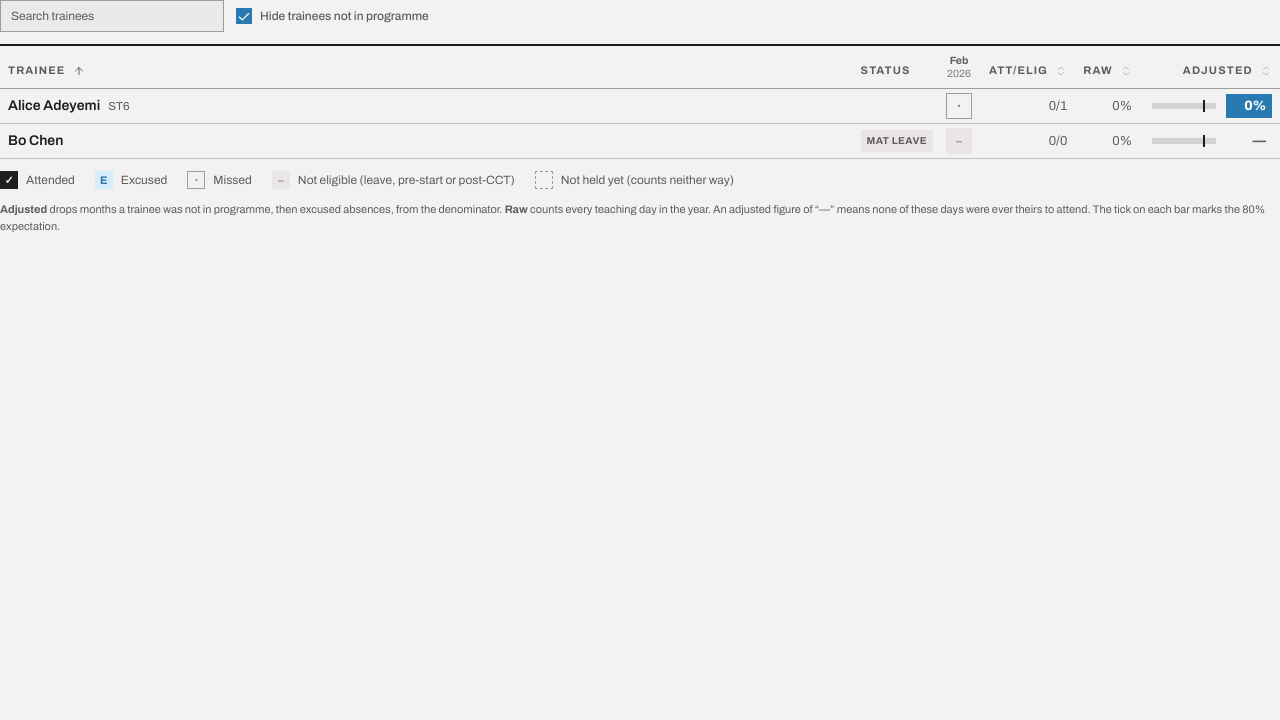
Test: AttendanceGrid cells › offers to mark somebody attended when they are not
This screenshot has width=1280, height=720.
Click the button named "Alice Adeyemi": (959, 106) x1=946 y1=93 x2=972 y2=119
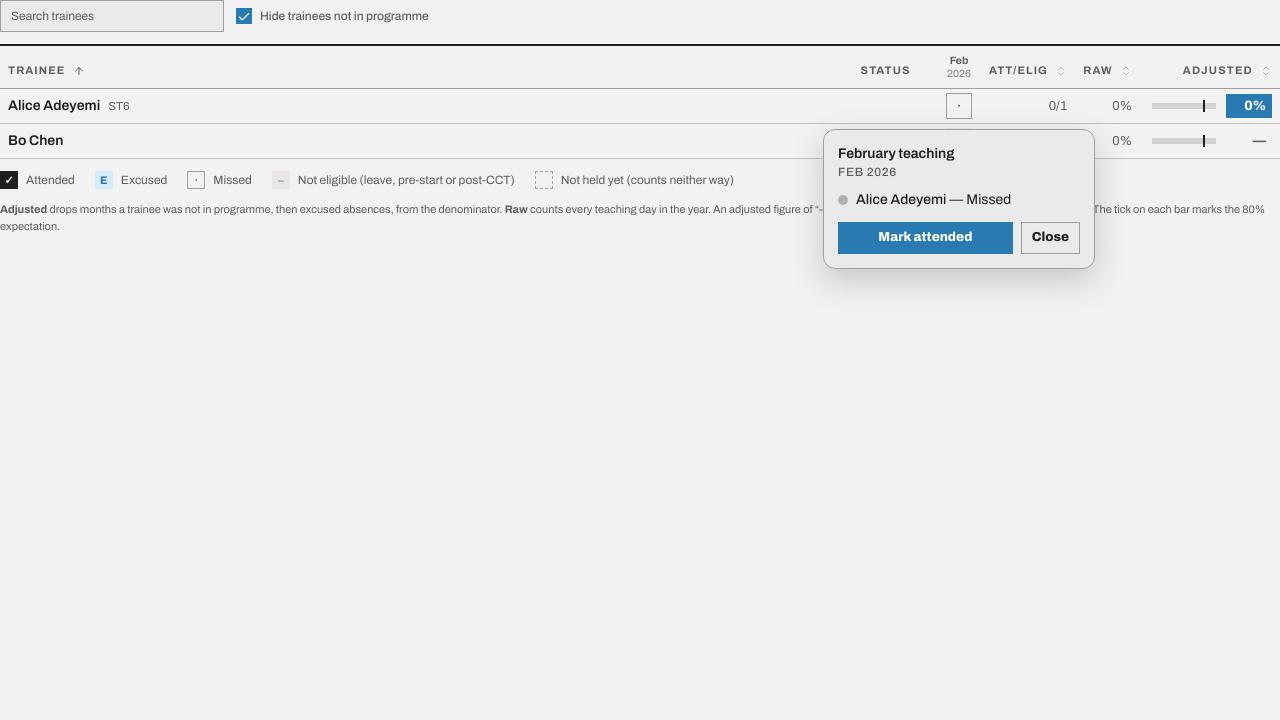
Now the button "Mark attended" is shown, box x1=838 y1=222 x2=1013 y2=254
